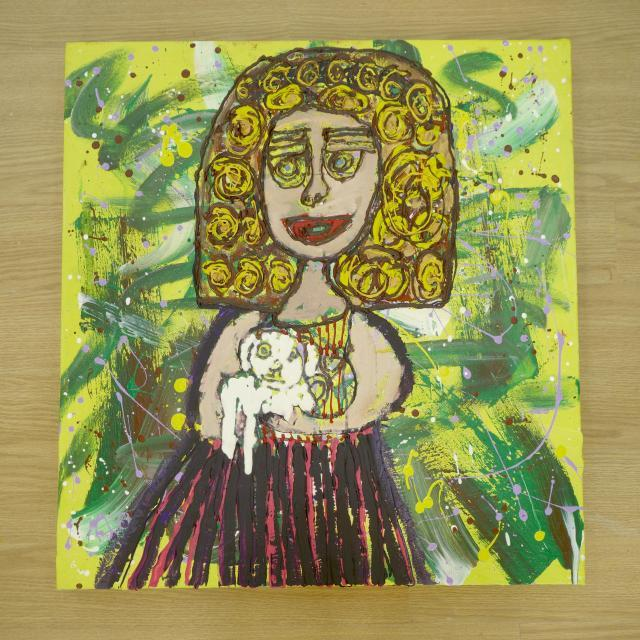painting: (57, 39, 584, 588)
